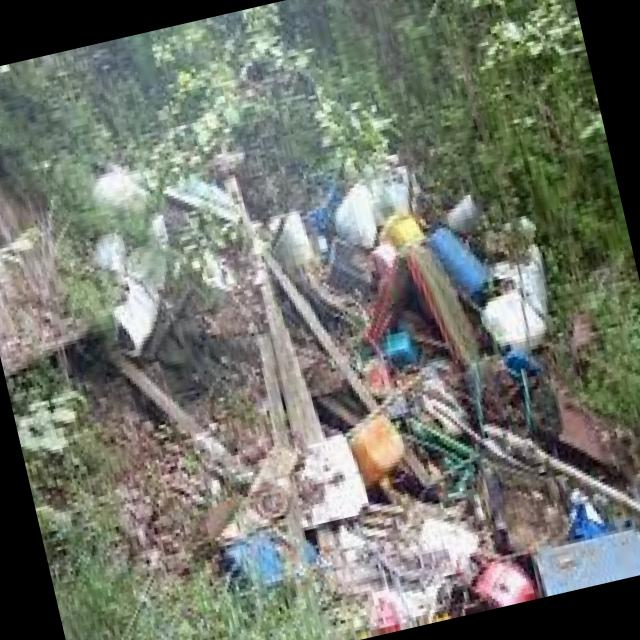garbage: (41, 36, 640, 640)
